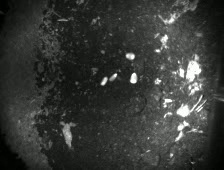corn: (127, 71, 140, 85), (124, 50, 137, 62), (107, 70, 119, 83), (98, 74, 110, 86)
